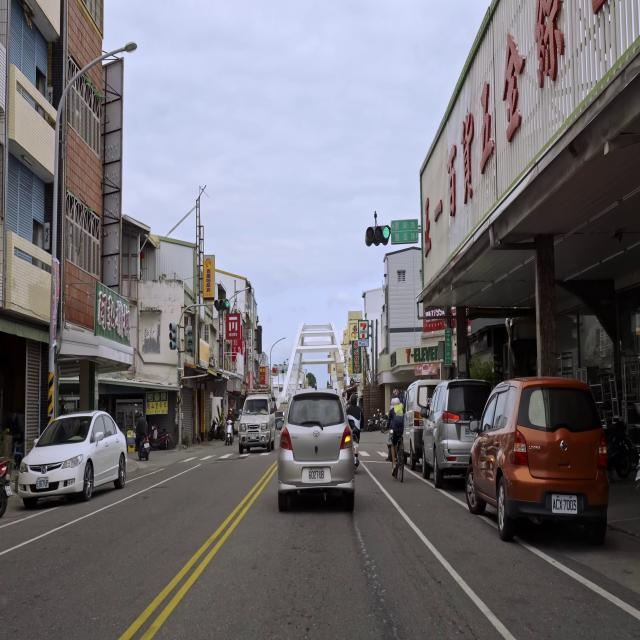green light: (365, 226, 390, 240), (214, 299, 229, 309)
